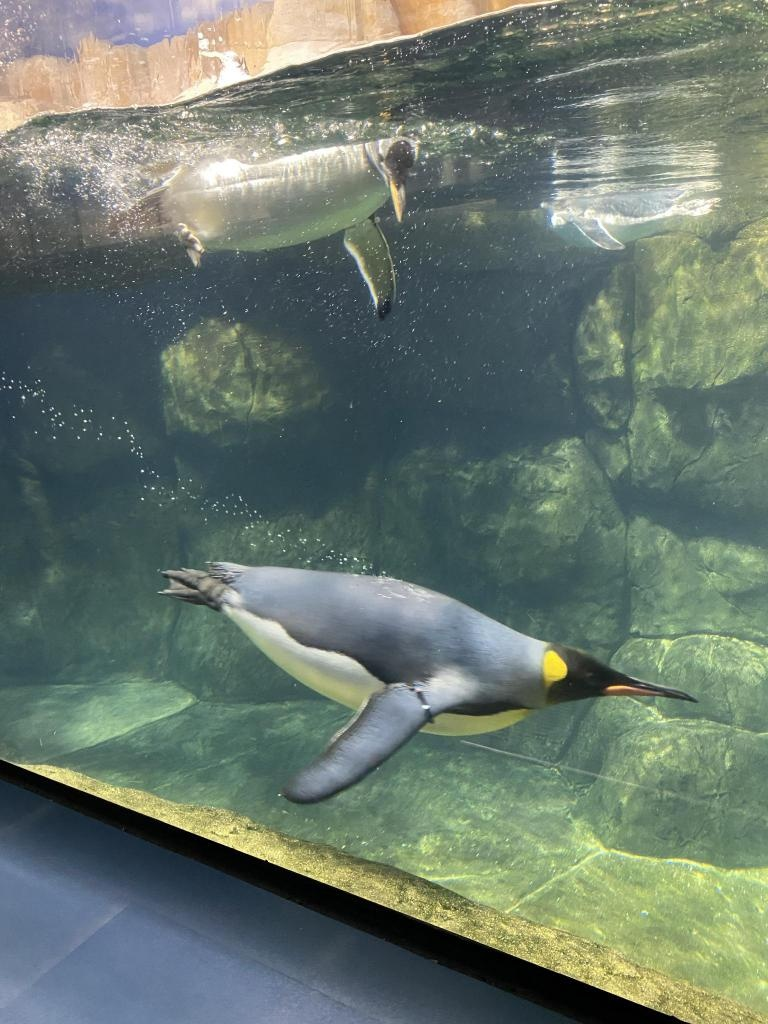penguin: (156, 558, 702, 804), (118, 134, 428, 316), (548, 182, 720, 250)
